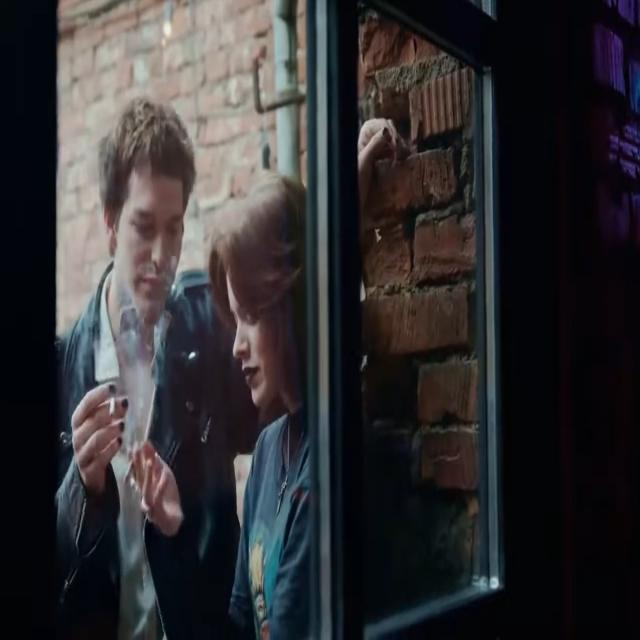Курение: (121, 454, 138, 488), (108, 393, 117, 420)
